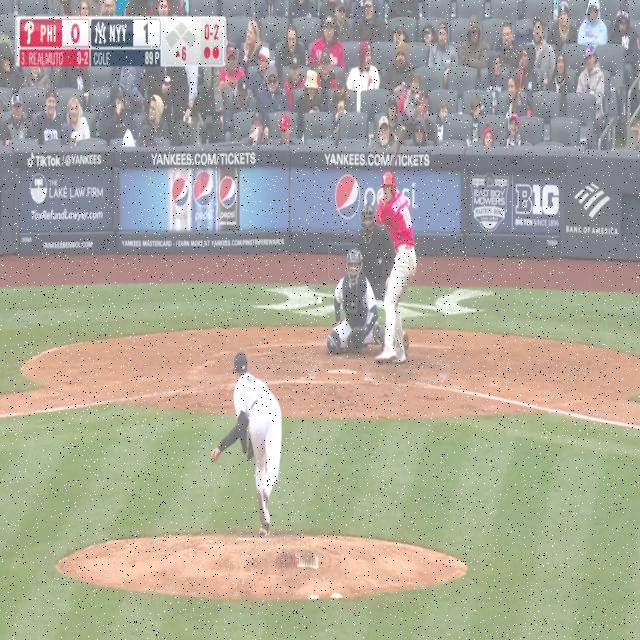baseball: (317, 297, 322, 305)
